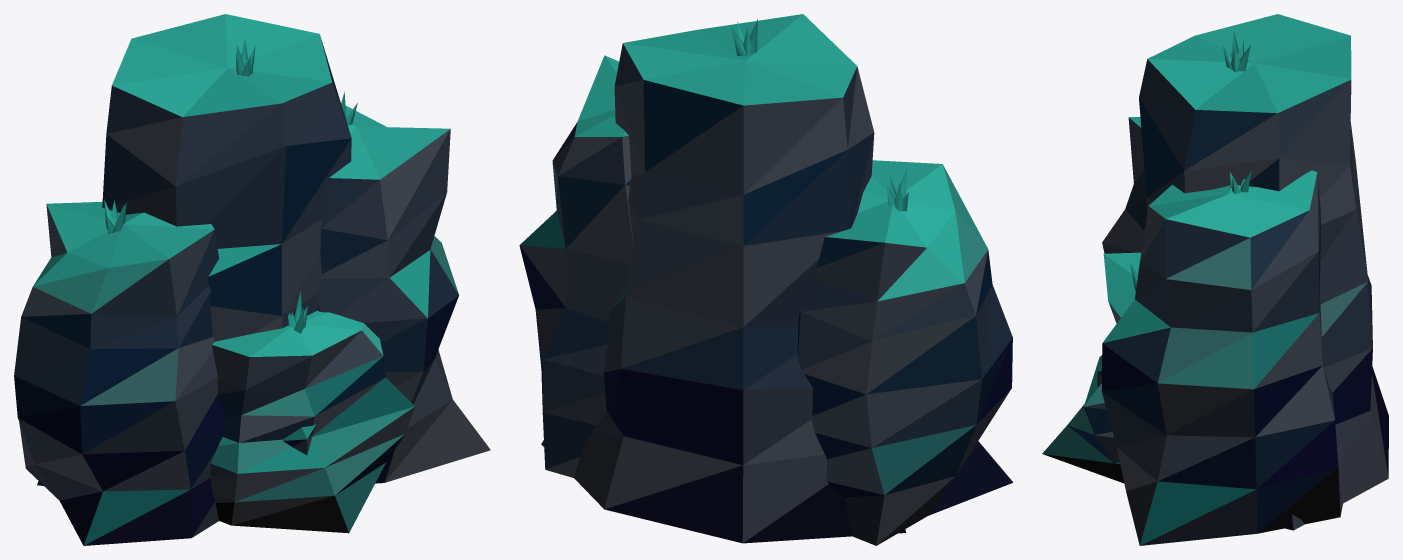
File: batu_cliff_basalt_427370.glb
3 views of the same model, side by side, from view 1: azimuth 30°, elevation 25°; view 2: azimuth 150°, elevation 25°; view 3: azimuth 270°, elevation 25° (orthographic). The views are drawn at different scales.
Visible parts, largest first — view 1: Tebing_Sungai_Curam; view 2: Tebing_Sungai_Curam; view 3: Tebing_Sungai_Curam.
Boxes of the visible parts, box(x1,y1,x2,y2) form: Tebing_Sungai_Curam: box(14, 14, 490, 545); Tebing_Sungai_Curam: box(519, 14, 1012, 545); Tebing_Sungai_Curam: box(1042, 14, 1388, 545).
Size of the model in its own units: 7.27 by 6.93 by 5.13.
